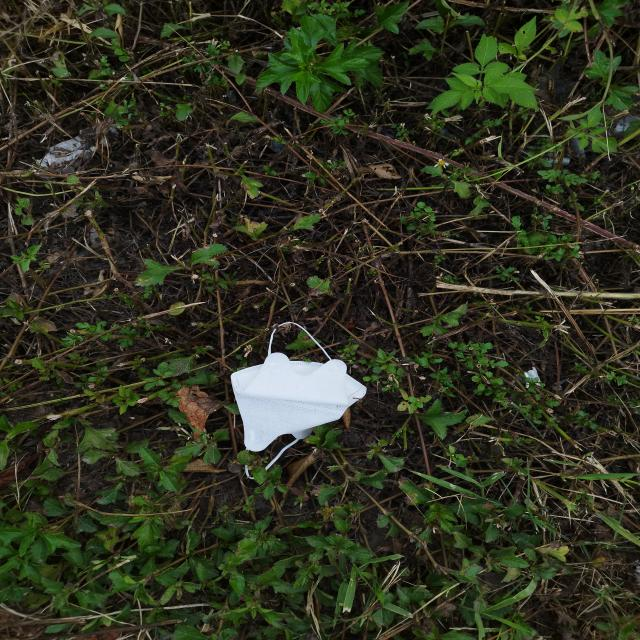mask: (232, 322, 368, 479)
